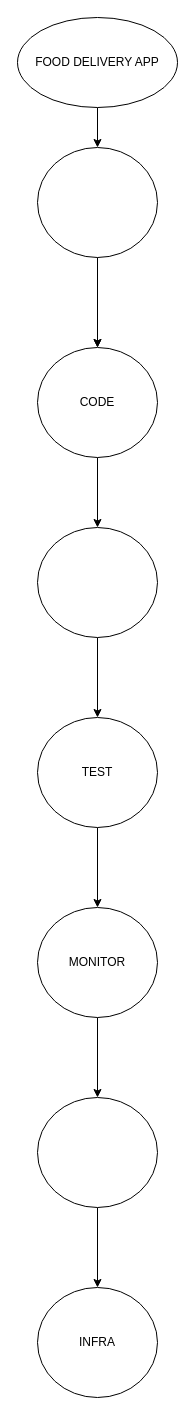
Some shapes in this 195 by 1415 pixel diagram are drawn without their labels. Here are the shapes that lost their labels. From the top down, the centre of each, then its label:
the point at 97,202: PLAN
the point at 97,582: BULID
the point at 97,1152: FEEDBACK
